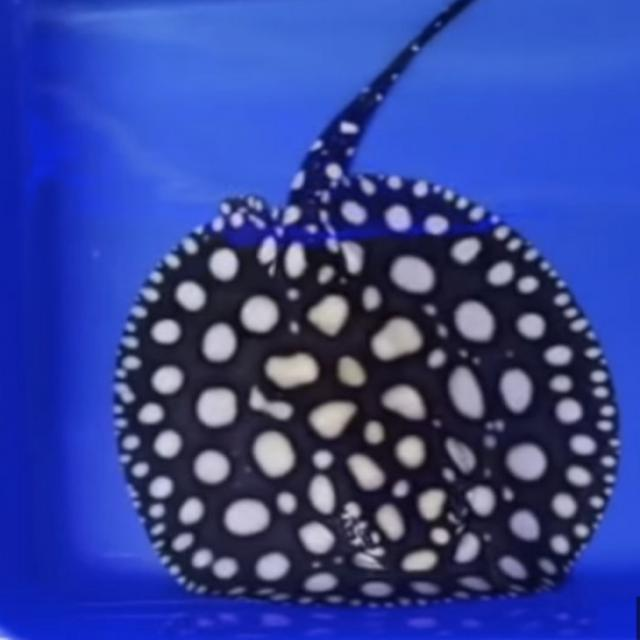black-diamond-sting-ray: (27, 8, 628, 623)
